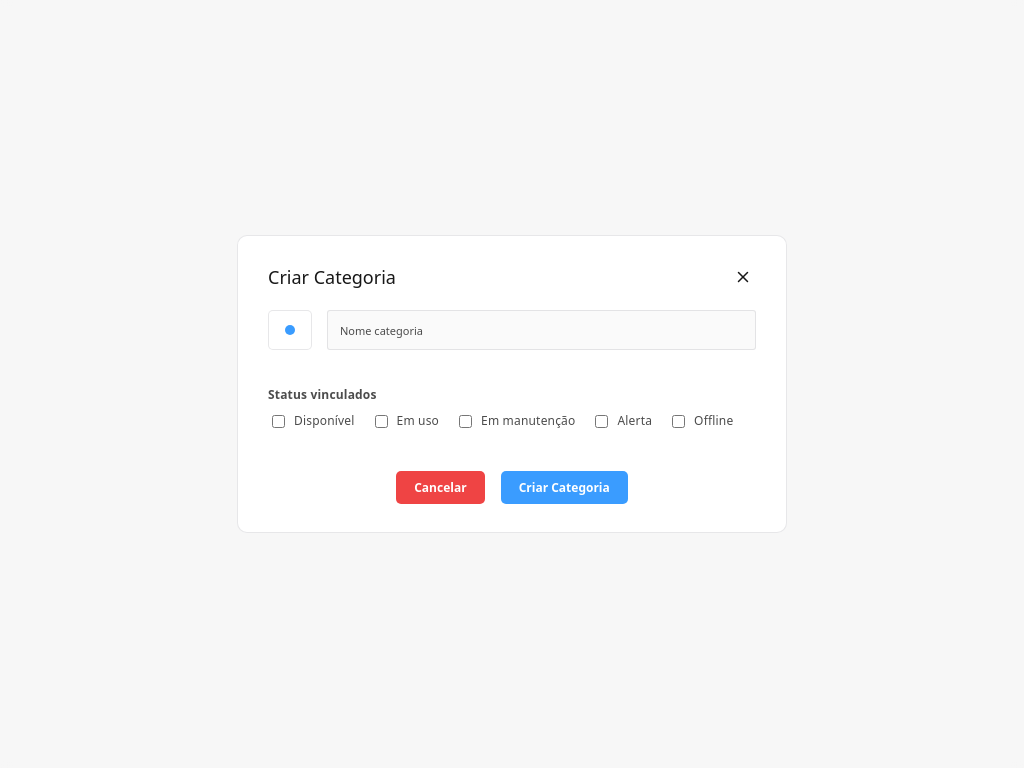
Test: CategoryFormModal › closes the popover with its close button
Click the button named "Cor da categoria".
click(290, 330)  # box [268,310,312,350]
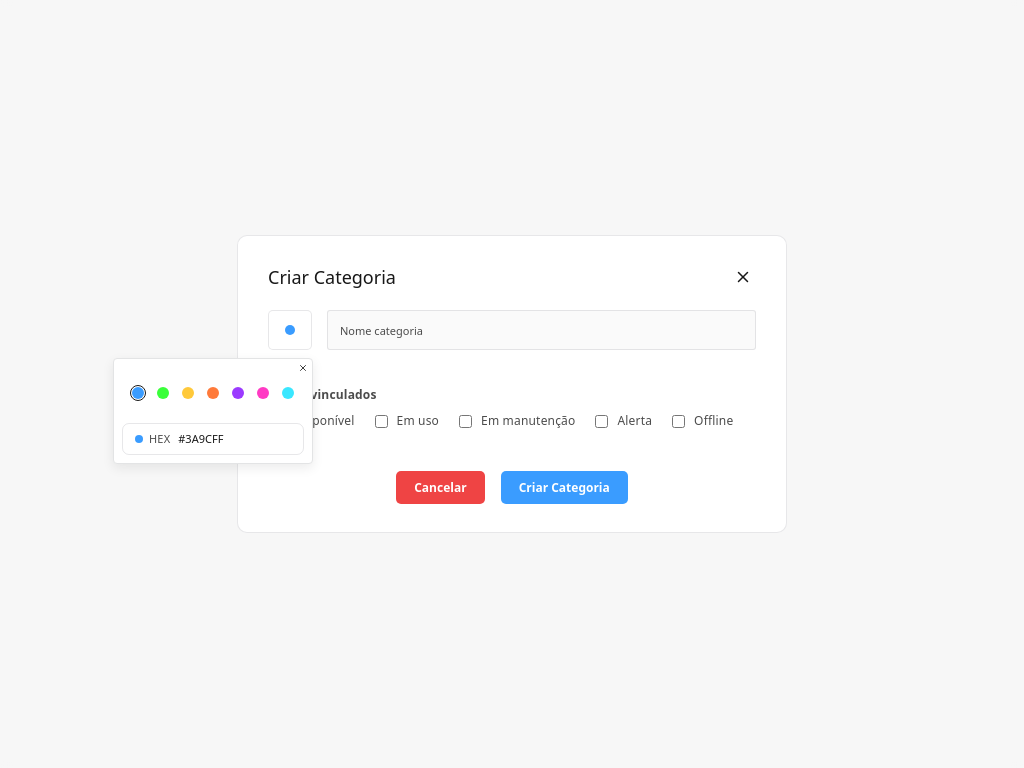
Click the button named "Fechar cores".
click(303, 368)  # box [298,363,308,373]
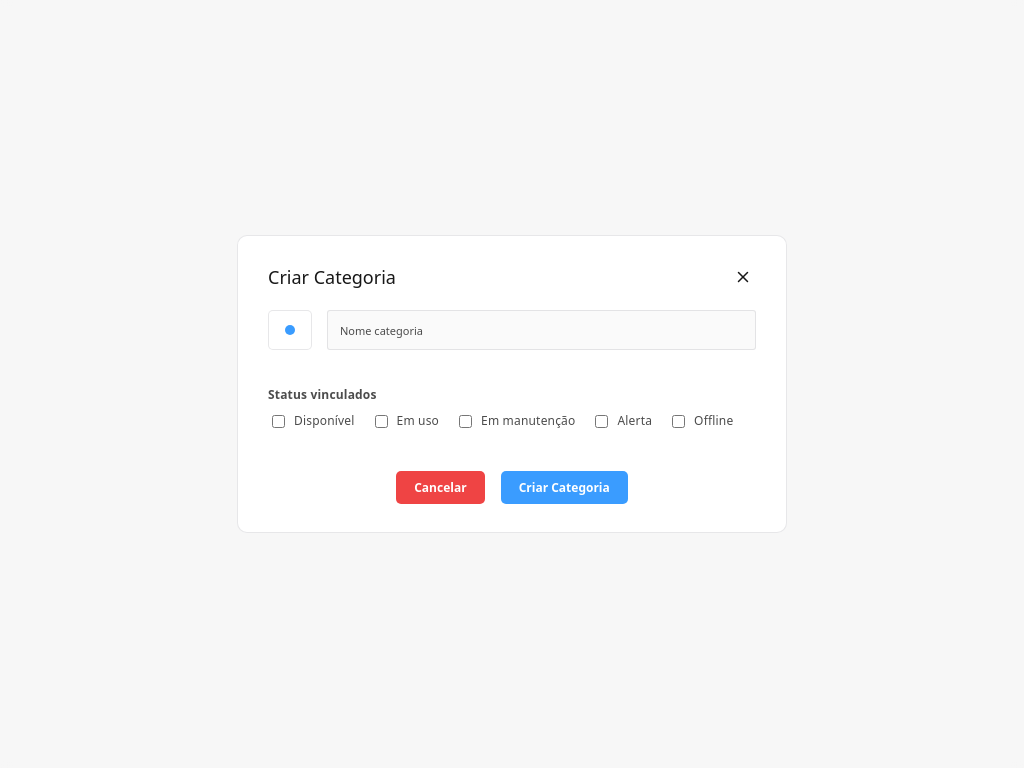
Expected: the text "HEX" is gone
